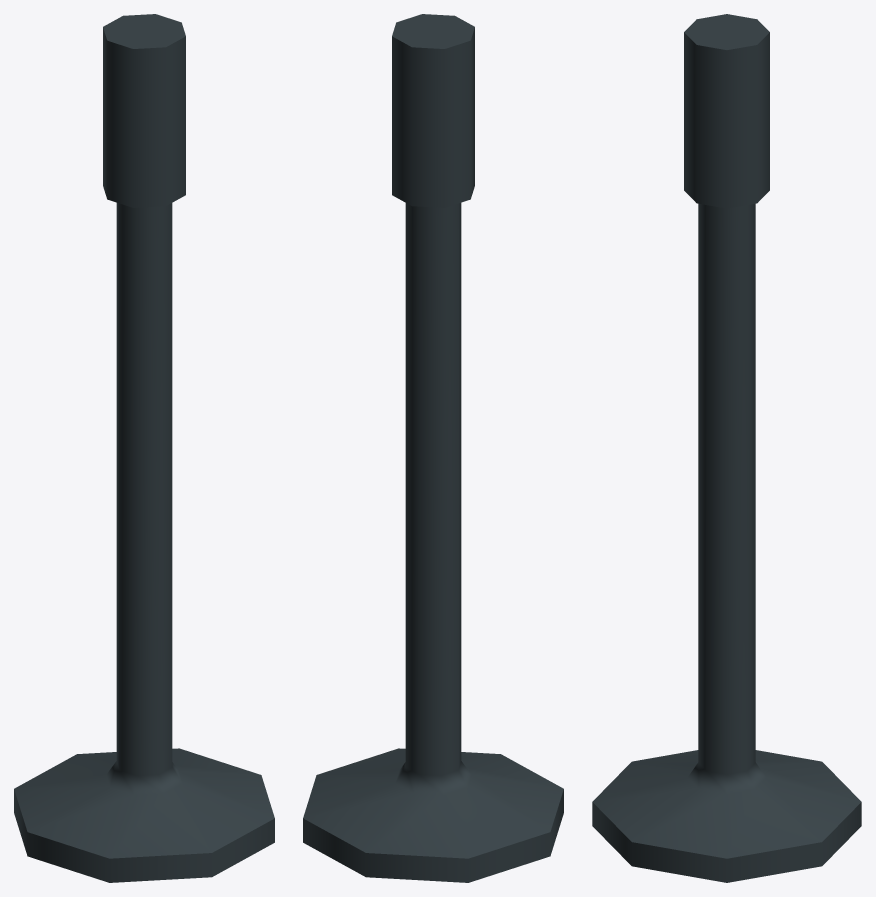
The model's file is SM_Pole.fbx.
3 renders of one model, left to right at view 1: azimuth 30°, elevation 25°; view 2: azimuth 150°, elevation 25°; view 3: azimuth 270°, elevation 25°, orthographic.
Parts seen in each view (by area): view 1: SM_Pole; view 2: SM_Pole; view 3: SM_Pole.
Boxes of the visible parts, box(x1,y1,x2,y2) form: SM_Pole: box(14, 14, 274, 882); SM_Pole: box(303, 14, 563, 882); SM_Pole: box(592, 14, 861, 882).
Size of the model in its own units: 0.2 by 0.6506 by 0.2.
Materials: 1 (1 with a texture image).
